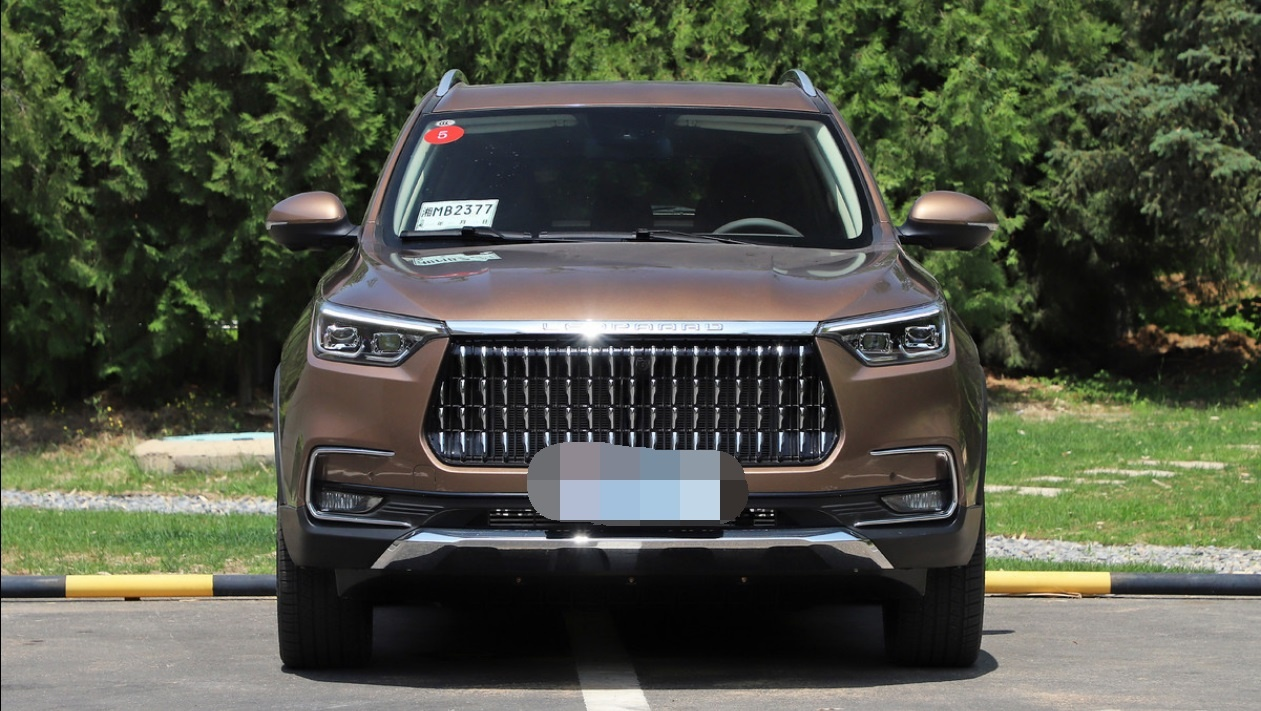SUV: (259, 59, 1012, 681)
